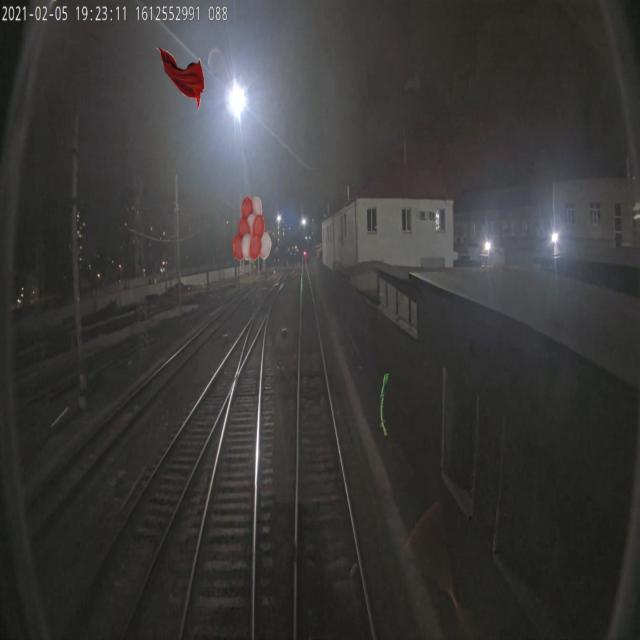balloon: (232, 196, 271, 260)
floating object: (156, 46, 205, 110), (380, 373, 390, 438)
